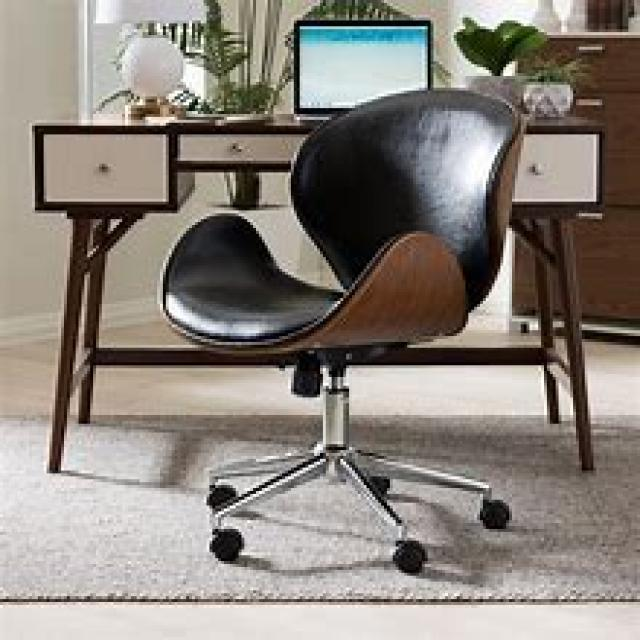chair: (157, 85, 527, 573)
